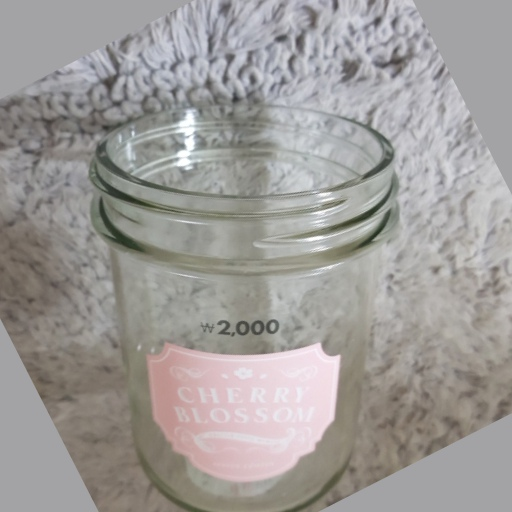Glass_5: (91, 96, 398, 508)
